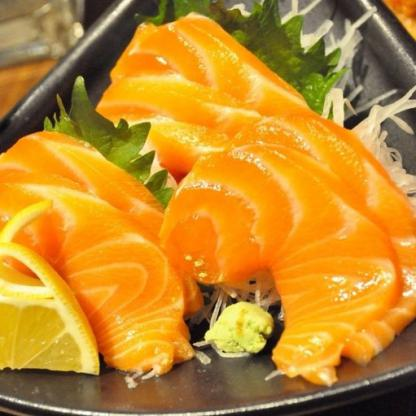salmon: (104, 23, 415, 377), (0, 126, 196, 370)
